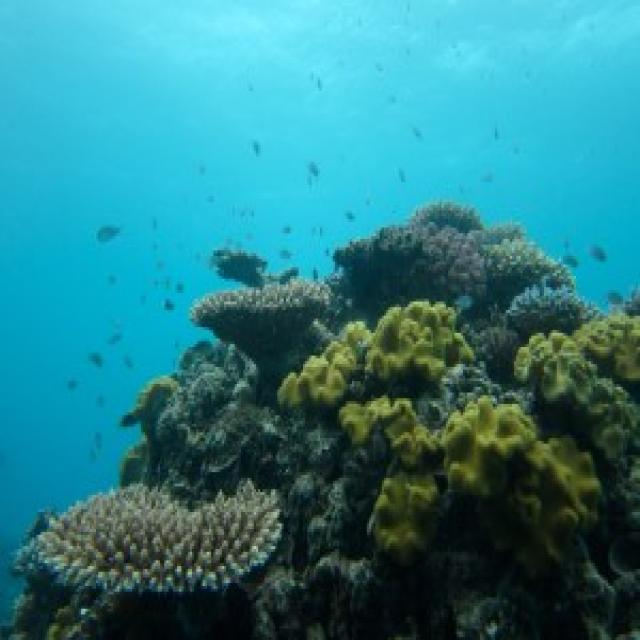Healthy: (334, 203, 573, 320), (443, 399, 598, 573), (35, 482, 280, 587), (280, 303, 472, 413), (340, 399, 438, 561), (517, 334, 639, 459), (193, 283, 330, 365), (568, 314, 639, 394), (507, 283, 596, 337)
